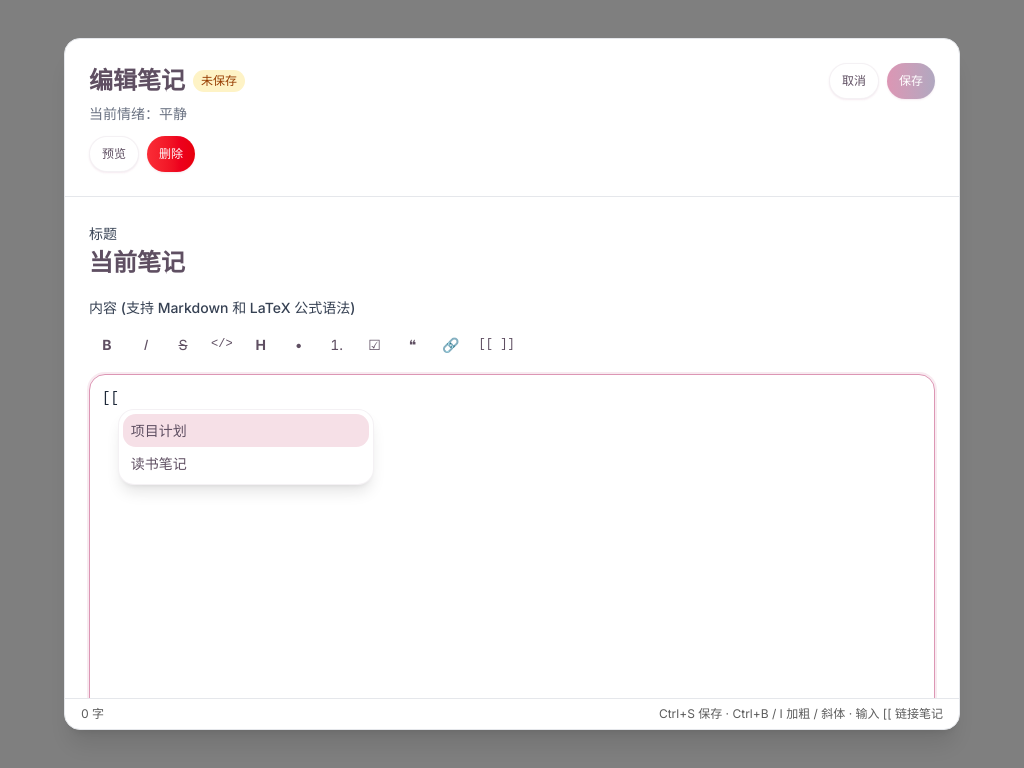
it: [ [ 双链补全 › 点击选项补全
Click the option "项目计划". click: (246, 431)
box: [123, 414, 369, 447]
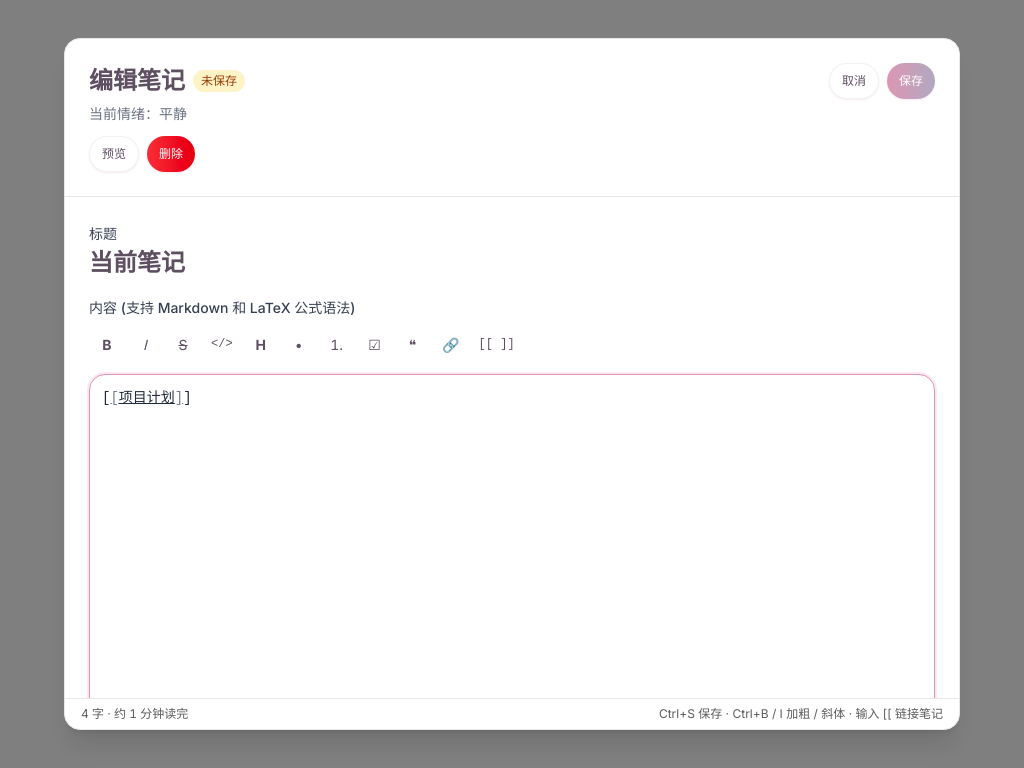
Expected: the text box labelled "[ [项目计划]]" is shown, [102, 390, 192, 406]
